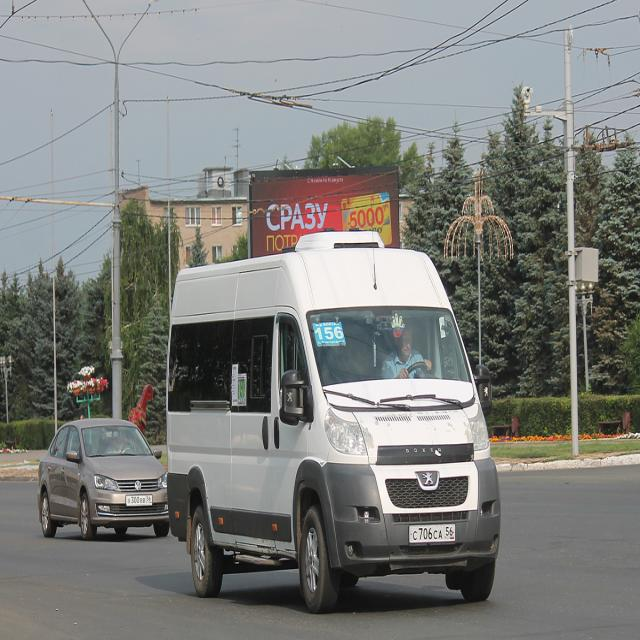number-of-bus: (314, 326, 346, 342)
